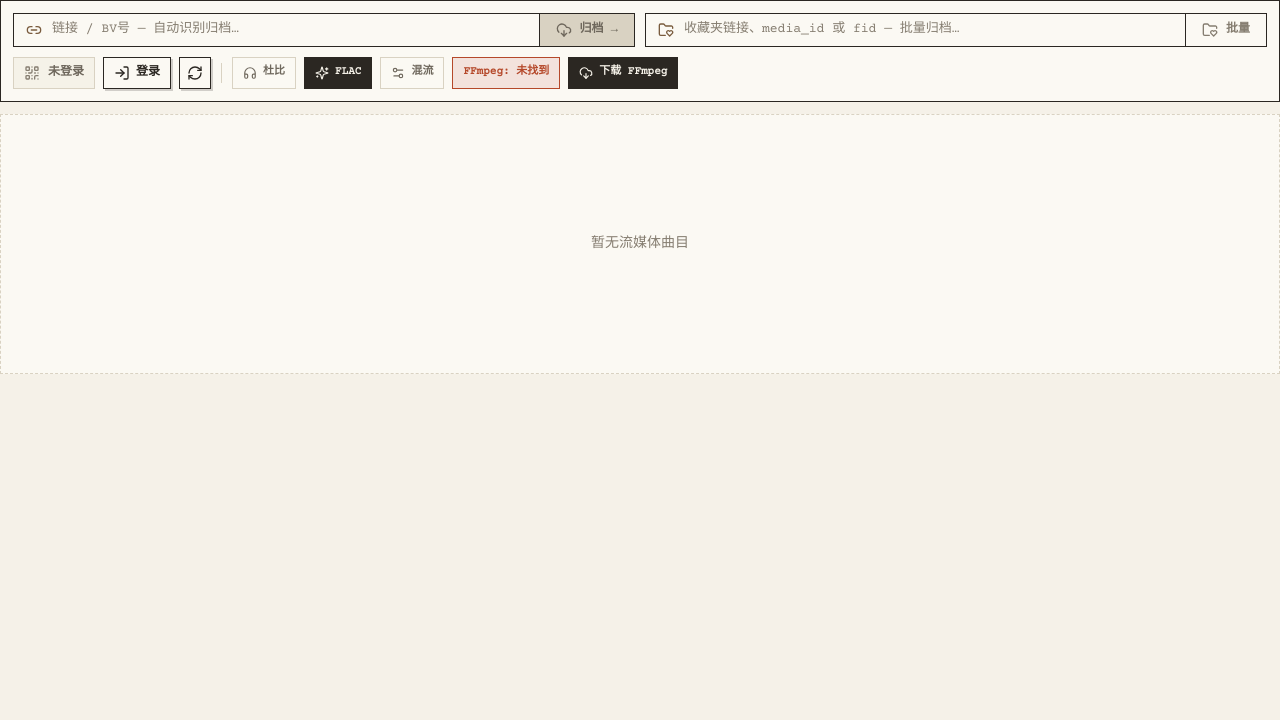
流媒体页 · 多 P 视频导入（BILI-05） › 多 P 且没有指定分 P：弹窗询问，默认选中项跟随全局设置，按所选范围导入
Type "BV1xx411c7mD" into the field with placeholder "链接 / BV号 — 自动识别归档…" at [289, 30], box [52, 20, 527, 40]
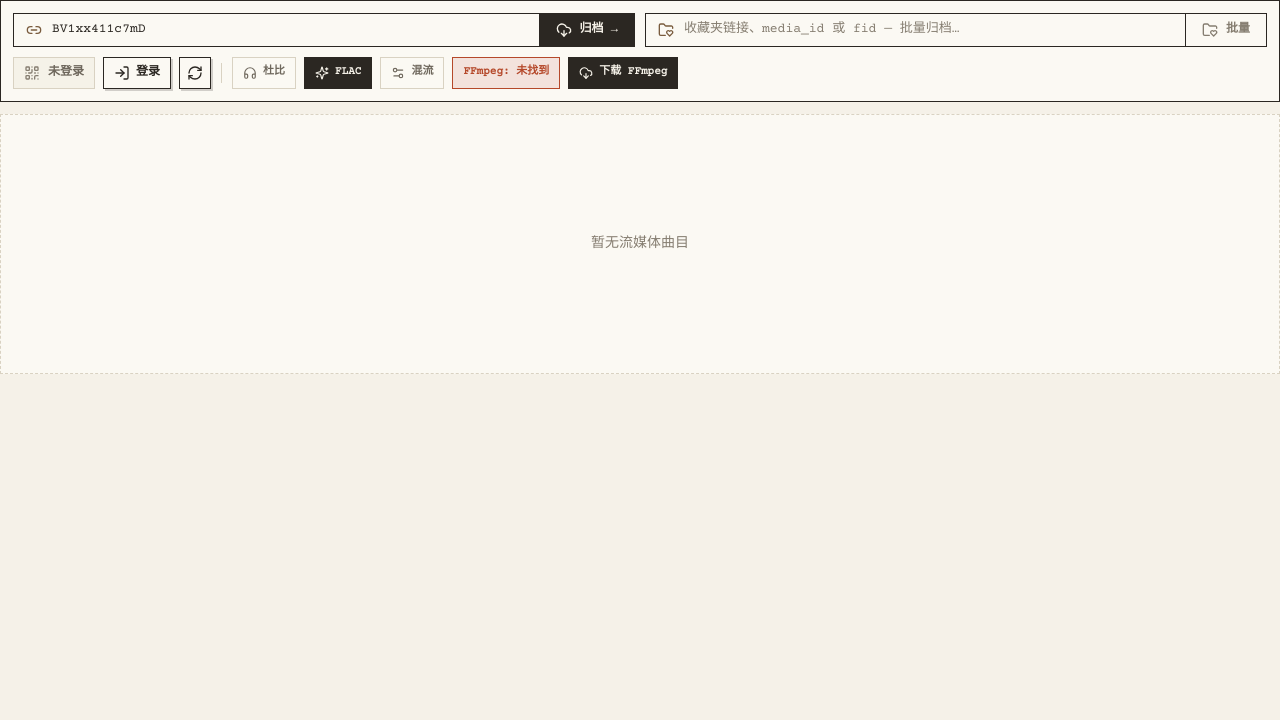
Click the button "归档 →" at [586, 30], box [539, 14, 634, 46]
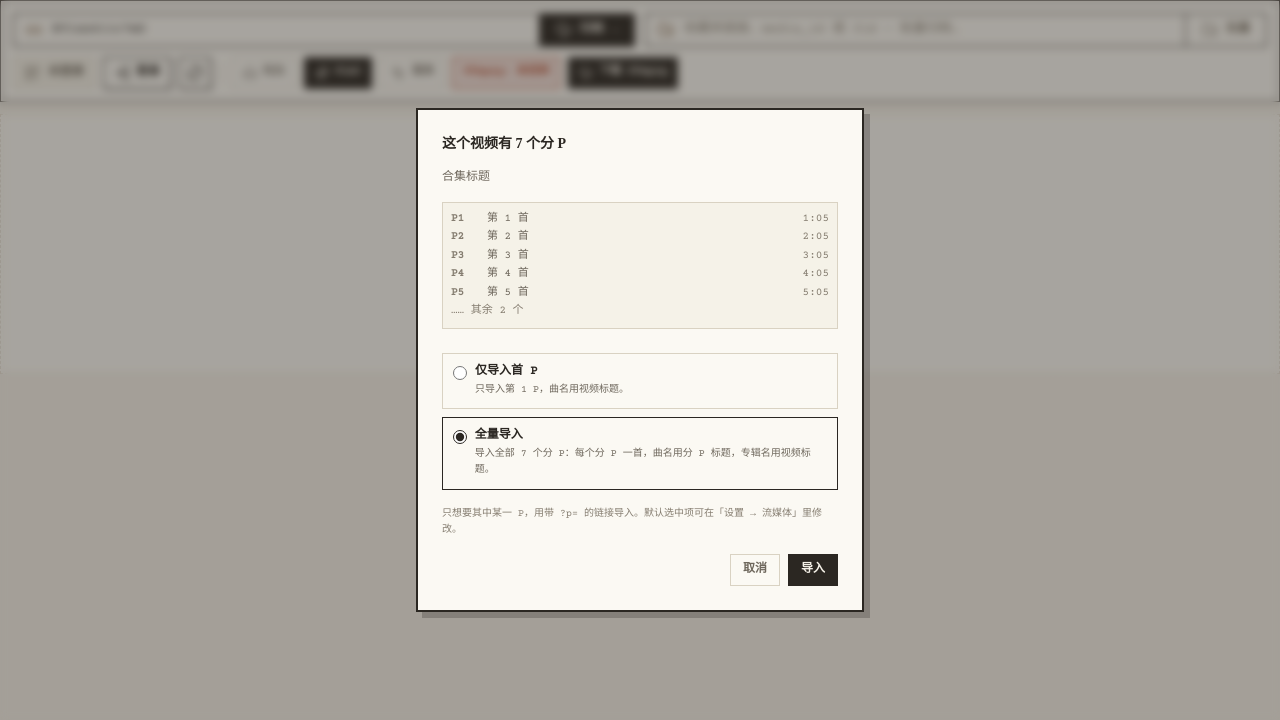
Expected: the dialog "这个视频有 7 个分 P" shows "合集标题", [442, 171, 490, 184]
Expected: the number of list items is 6, [451, 211, 829, 227]; [451, 229, 829, 246]; [451, 248, 829, 264]; [451, 266, 829, 283]; [451, 285, 829, 301]; [451, 304, 524, 317]
Expected: the list named "分 P 列表" shows "第 1 首", [487, 212, 529, 225]
Click the radio button labelled "仅导入首 P 只导入第 1 P，曲名用视频标题。" at [460, 373], box [453, 366, 467, 380]
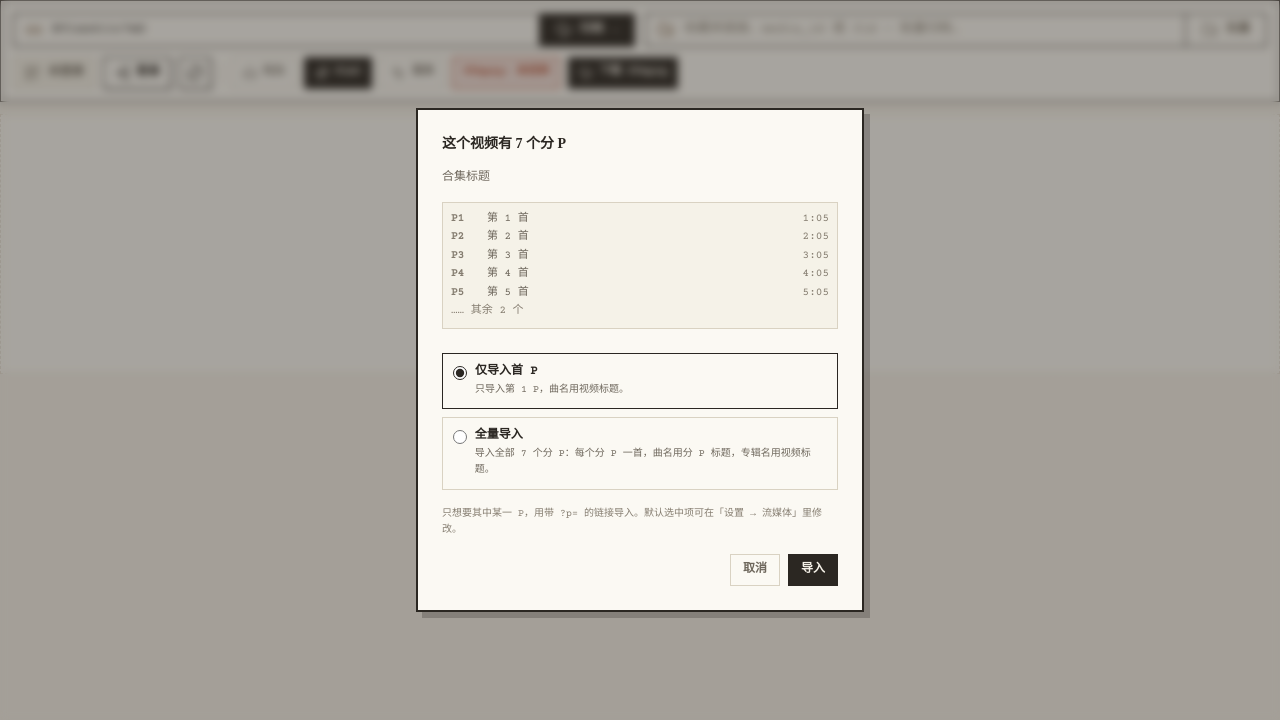
Click the button "导入" at [813, 570], box [788, 554, 838, 586]
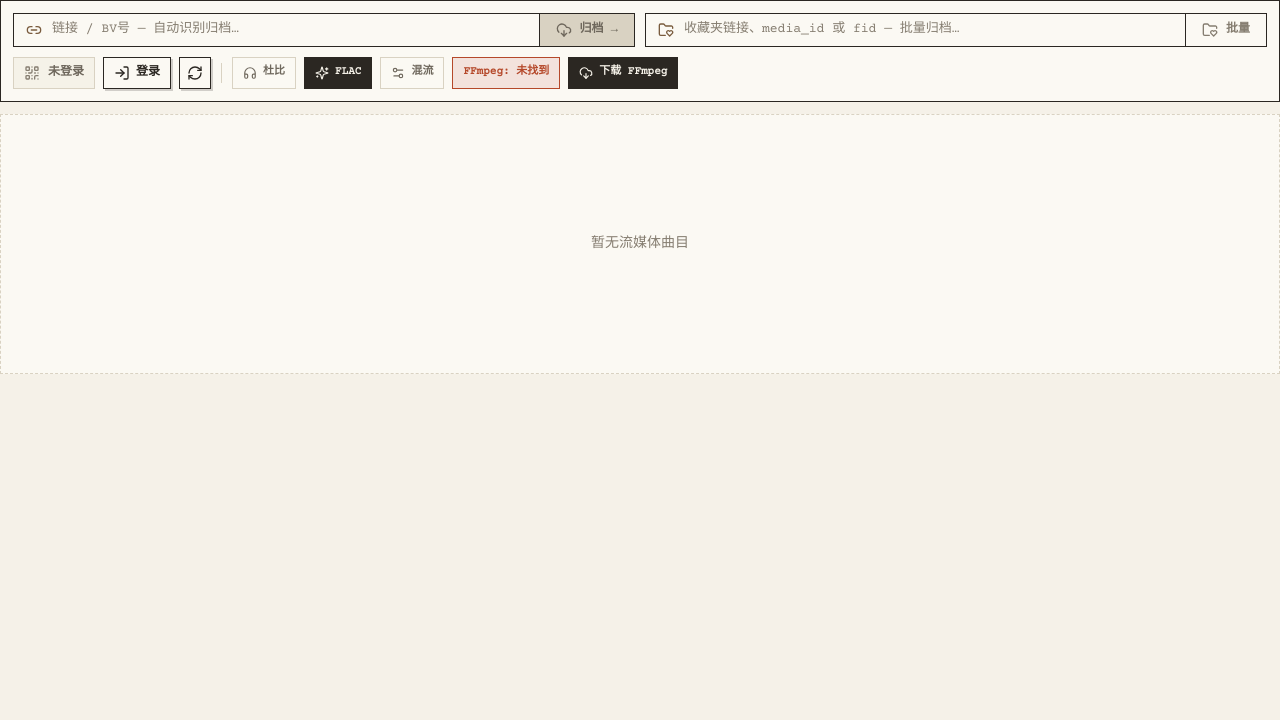
Expected: the dialog is gone
